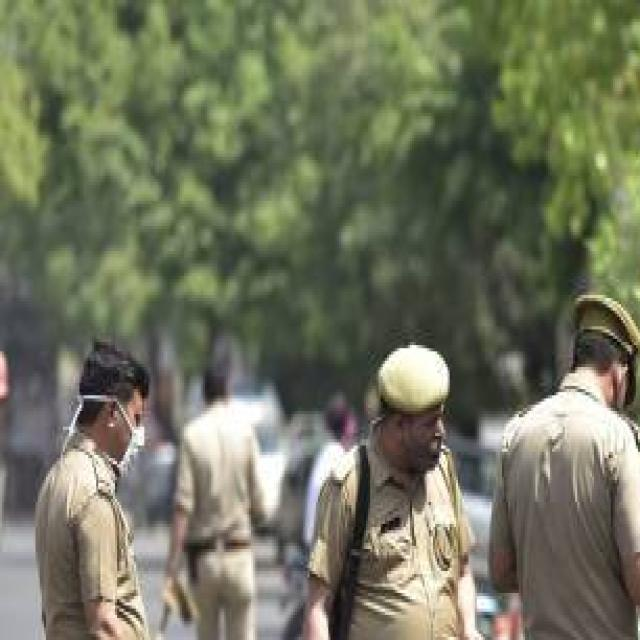bike: (621, 618, 640, 640)
